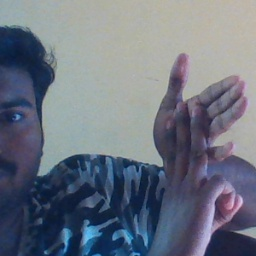M: (149, 48, 249, 230)
